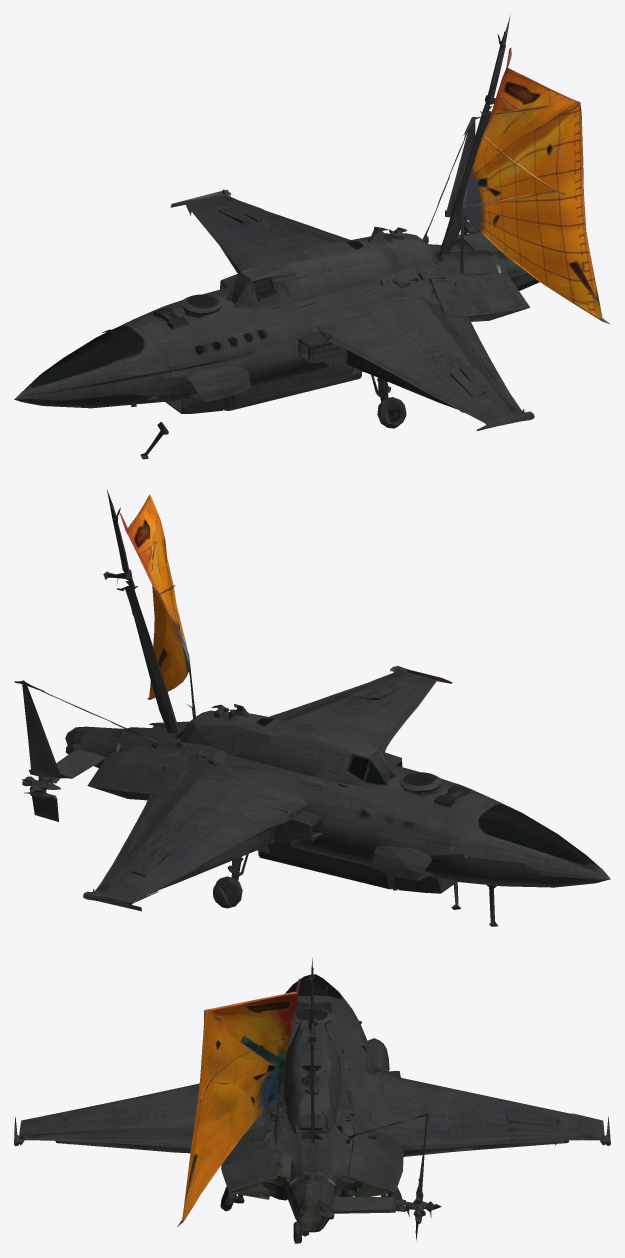
Rendered from nation-i-carrier.glb.
3 views of the same model, one above another, from view 1: azimuth 30°, elevation 25°; view 2: azimuth 150°, elevation 25°; view 3: azimuth 270°, elevation 25° (orthographic). The views are drawn at different scales.
Size of the model in its own units: 1.9 by 1.18 by 1.89.
Materials: 1 (1 with a texture image).
